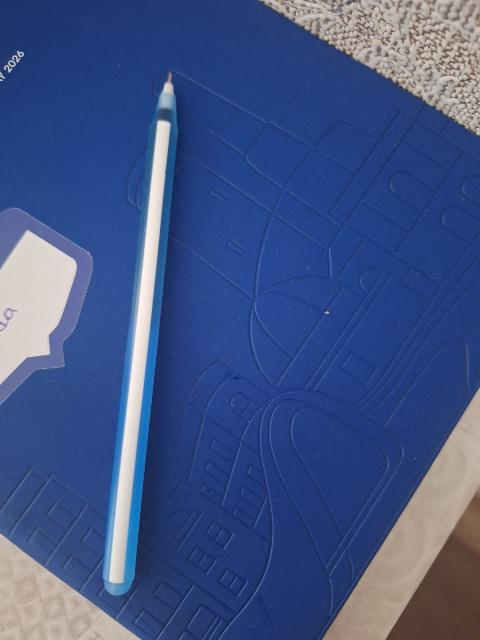writing_tool: (94, 72, 184, 595)
